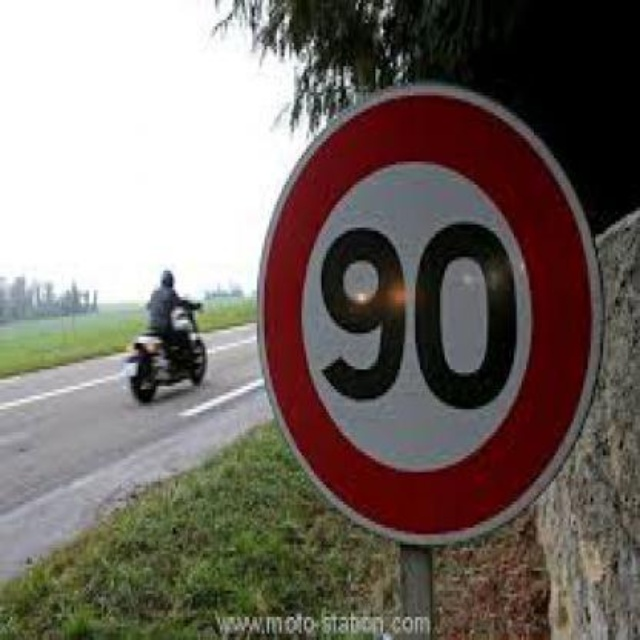Tốc độ tối đa cho phép 90km/h: (252, 83, 595, 538)
